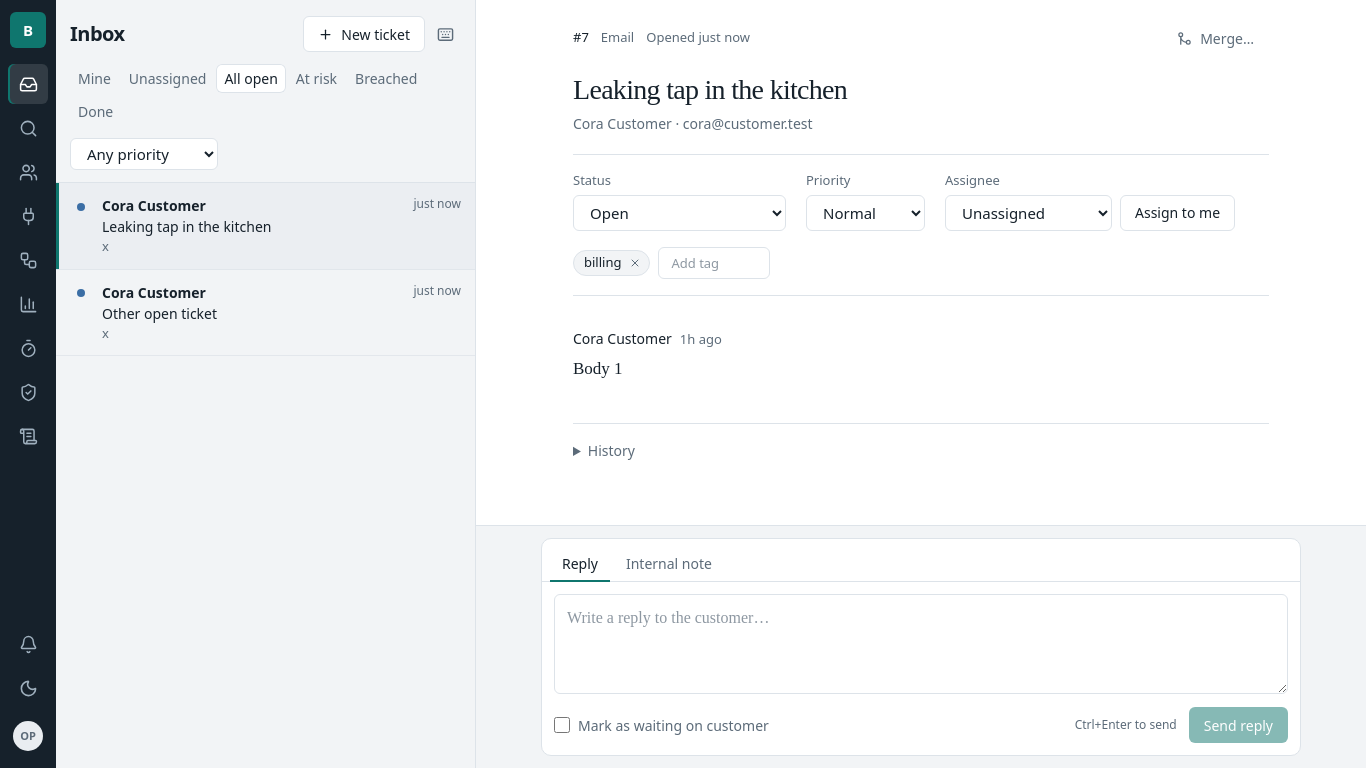
Test: composer › sends a reply and shows it in the thread
The image size is (1366, 768).
Check: the heading "Leaking tap in the kitchen" is shown, box [573,74,847,105]
Type "We will be there Tuesday." into the text box named "Message". click: (921, 644)
box: [554,594,1288,694]
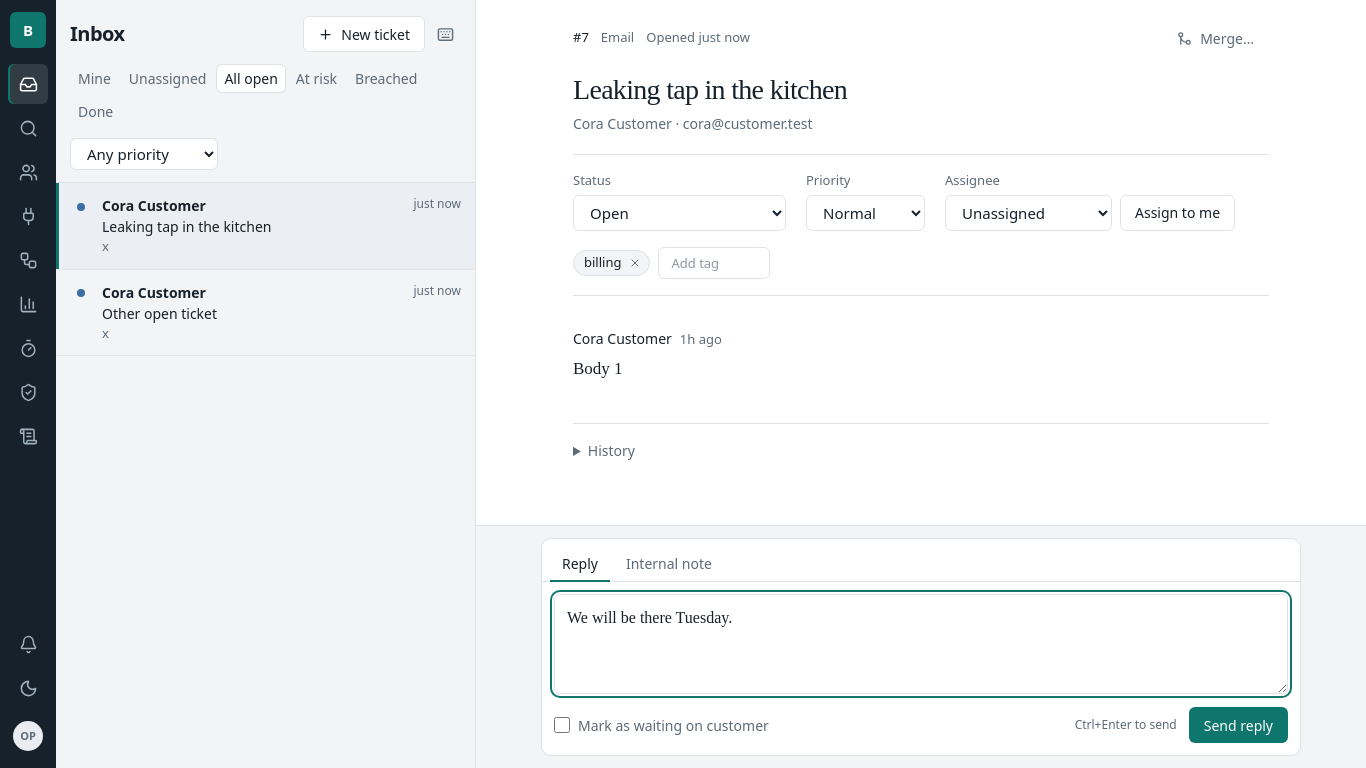
Click the button "Send reply". click: (1238, 725)
box: [1189,707,1288,743]
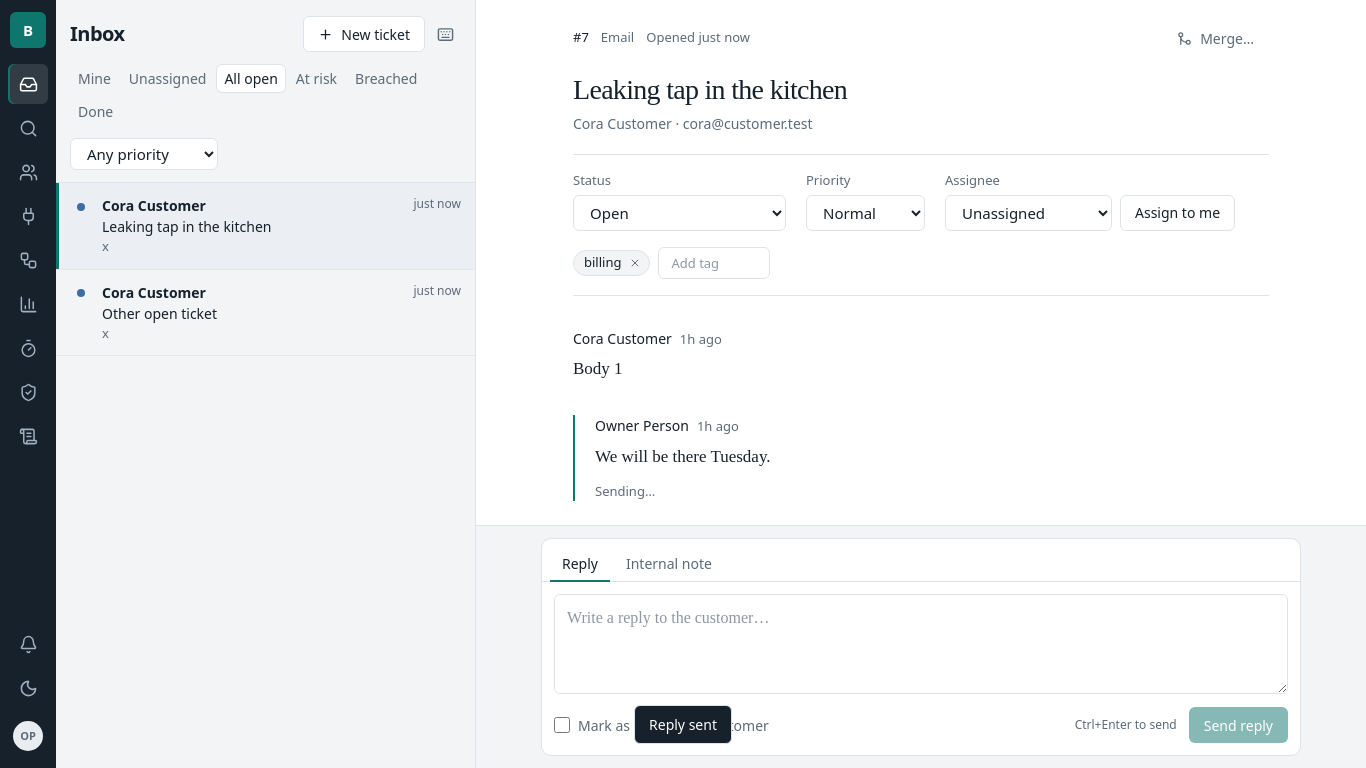
Check: the text "We will be there Tuesday." is shown, box [595,446,770,466]
Check: the text box named "Message" is empty, box [554,594,1288,694]
